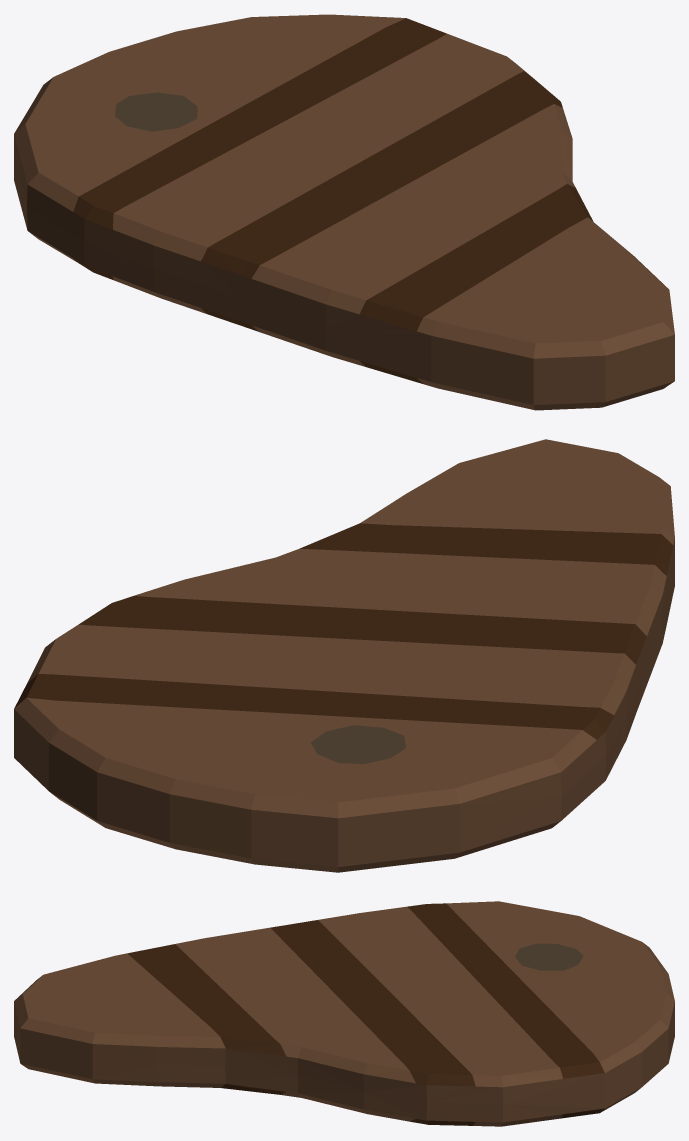
Rendered from SteakCooked.fbx.
3 views of the same model, one above another, from view 1: azimuth 30°, elevation 25°; view 2: azimuth 150°, elevation 25°; view 3: azimuth 270°, elevation 25° (orthographic). The views are drawn at different scales.
Visible parts, largest first — view 1: Cylinder; view 2: Cylinder; view 3: Cylinder.
Boxes of the visible parts, x1,y1,x2,y2 form: Cylinder: (14,14,674,410); Cylinder: (14,439,674,872); Cylinder: (14,901,674,1126).
Bounding box in the file's own units: 50.22 × 6.54 × 77.02.
